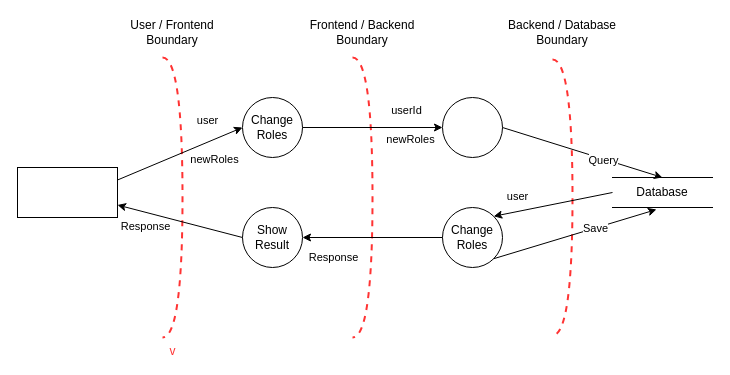
Some shapes in this 730 by 375 pixel diagram are drawn without their labels. Each missing label, with the centre of its shape:
Admin: pixel 67 192
Select Photos: pixel 472 127
